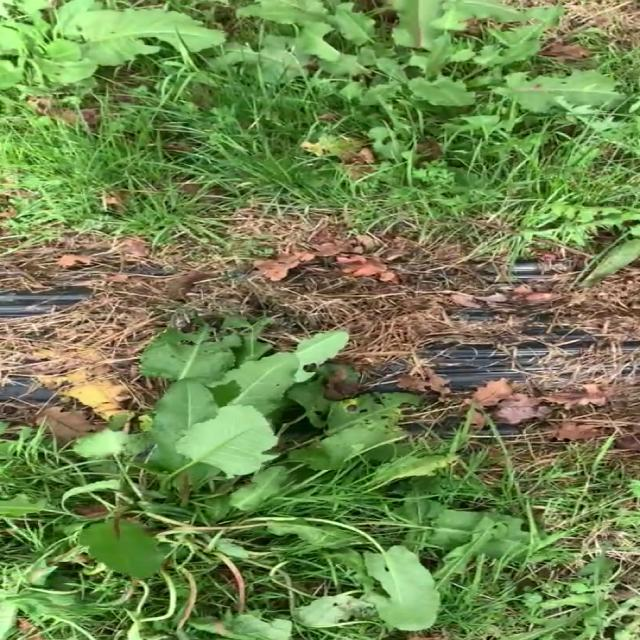organic waste: (0, 291, 544, 640), (155, 0, 640, 177), (0, 0, 202, 110)
